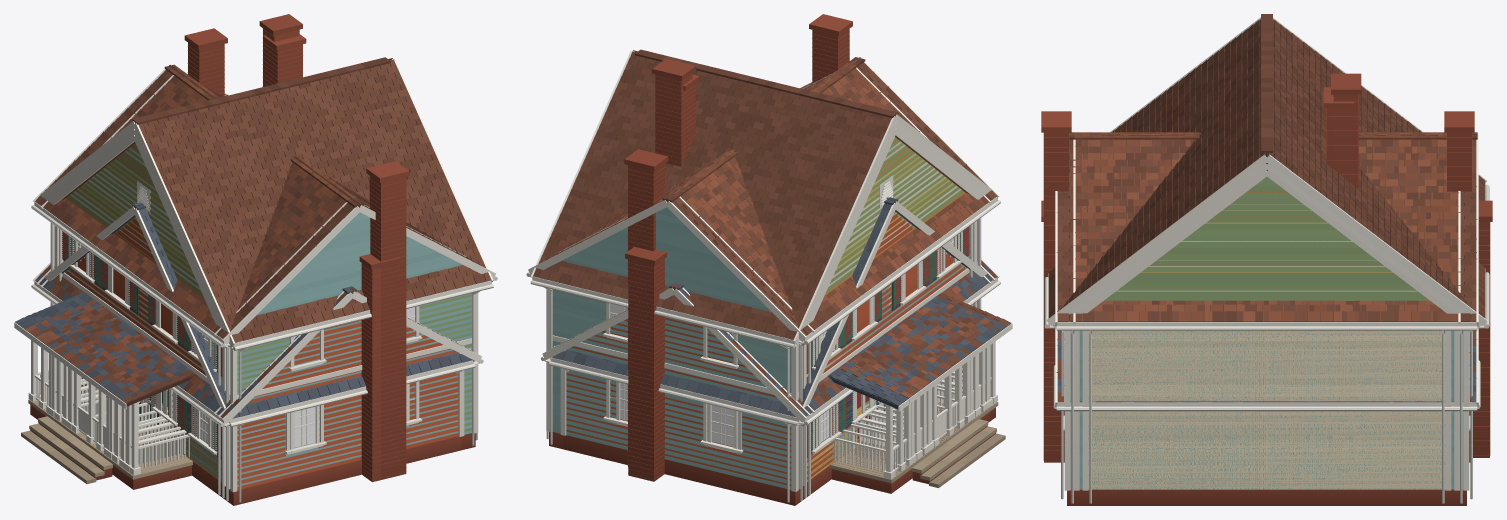
Rendered from houses.glb.
3 views of the same model, side by side, from view 1: azimuth 30°, elevation 25°; view 2: azimuth 150°, elevation 25°; view 3: azimuth 270°, elevation 25° (orthographic). The views are drawn at different scales.
Parts seen in each view (by area): view 1: house4, house11, house1, house8, house2, house3, house9, house0, house7, house5, house10, house6; view 2: house4, house11, house8, house1, house2, house3, house9, house0, house5, house7, house10, house6; view 3: house2, house4, house11, house9, house0, house7, house8, house5, house1, house10, house6.
Part boxes in pixels (<box>): house4: <box>32,14,493,505</box>; house11: <box>31,64,497,500</box>; house1: <box>14,254,482,500</box>; house8: <box>33,264,483,505</box>; house2: <box>39,28,465,494</box>; house3: <box>44,202,475,488</box>; house9: <box>35,34,306,467</box>; house0: <box>44,127,232,489</box>; house7: <box>45,128,230,485</box>; house5: <box>24,281,229,494</box>; house10: <box>35,269,477,498</box>; house6: <box>39,276,229,481</box>; house4: <box>530,49,991,505</box>; house11: <box>526,14,1000,500</box>; house8: <box>542,246,1000,486</box>; house1: <box>541,258,1000,505</box>; house2: <box>558,63,1005,494</box>; house3: <box>549,197,1007,488</box>; house9: <box>683,74,982,463</box>; house0: <box>796,121,1012,488</box>; house5: <box>807,272,992,494</box>; house7: <box>798,121,1007,488</box>; house10: <box>546,265,996,497</box>; house6: <box>662,261,994,477</box>; house2: <box>1073,111,1474,505</box>; house4: <box>1044,14,1489,499</box>; house11: <box>1041,111,1478,505</box>; house9: <box>1076,87,1457,477</box>; house0: <box>1053,163,1480,490</box>; house7: <box>1053,163,1480,490</box>; house8: <box>1055,200,1492,457</box>; house5: <box>1074,401,1459,411</box>; house1: <box>1041,200,1478,423</box>; house10: <box>1064,331,1469,412</box>; house6: <box>1074,401,1459,409</box>.
Size of the model in its own units: 12.34 by 11.92 by 12.55.
